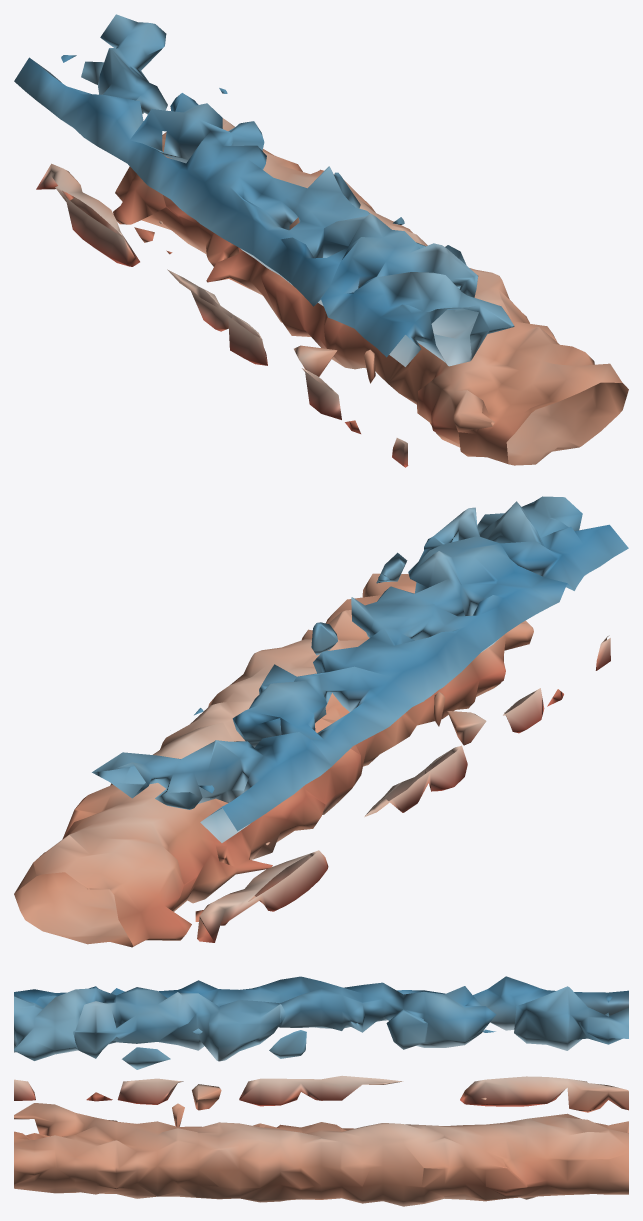
3 views of the same model, one above another, from view 1: azimuth 30°, elevation 25°; view 2: azimuth 150°, elevation 25°; view 3: azimuth 270°, elevation 25° (orthographic). The views are drawn at different scales.
Bounding box in the file's own units: 0.9575 × 0.7845 × 2.5.
